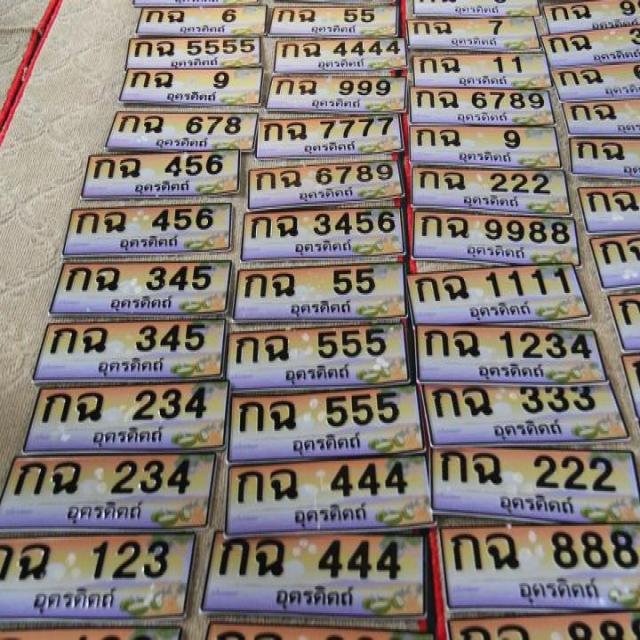UTT: (32, 584, 125, 617), (519, 572, 602, 608), (275, 582, 353, 612), (66, 495, 144, 525), (500, 489, 576, 516), (492, 413, 562, 442), (291, 500, 369, 524), (98, 356, 166, 379), (283, 361, 354, 383), (291, 432, 364, 453), (92, 425, 165, 445), (110, 291, 175, 313), (478, 361, 546, 381), (467, 238, 528, 260), (470, 300, 534, 320), (289, 299, 356, 317), (294, 237, 356, 254), (120, 234, 180, 250), (134, 182, 191, 194)
